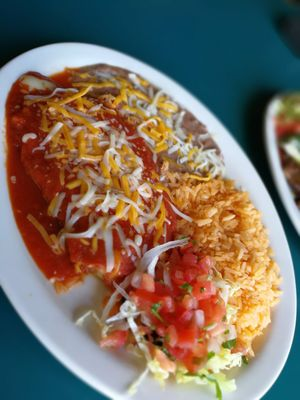sushi: (2, 46, 299, 397), (260, 89, 300, 239)
